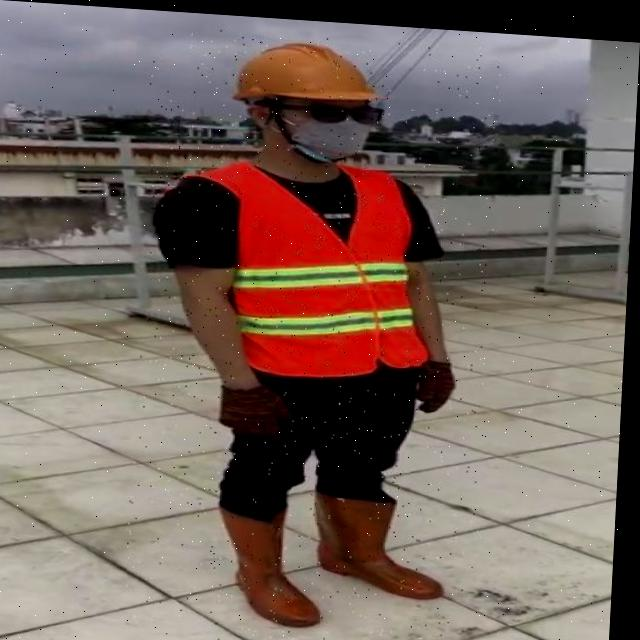Gloves: (222, 377, 300, 434), (418, 351, 460, 408)
Helmet: (232, 34, 383, 105)
Safety-Boot: (314, 482, 453, 594), (219, 495, 333, 623)
Safety-Vest: (178, 150, 444, 380)
